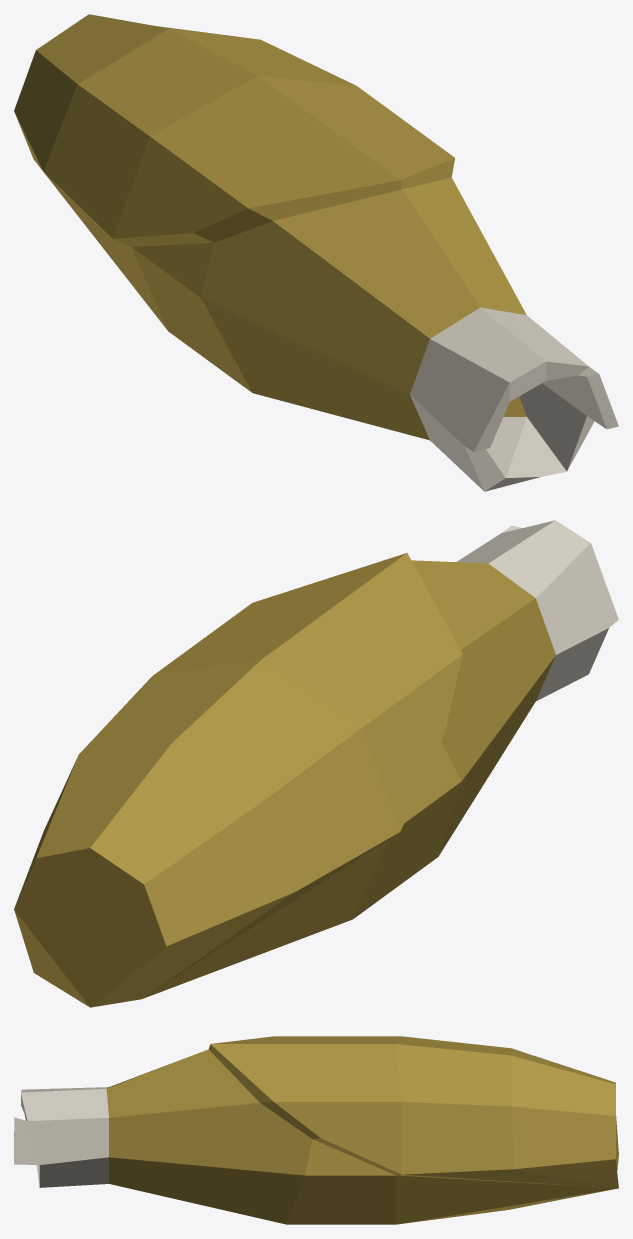
File: EA03_Items_House_Corn_01a.glb
3 renders of one model, top to bottom at view 1: azimuth 30°, elevation 25°; view 2: azimuth 150°, elevation 25°; view 3: azimuth 270°, elevation 25°, orthographic. The views are drawn at different scales.
Parts seen in each view (by area): view 1: EA03_Items_House_Corn_01a; view 2: EA03_Items_House_Corn_01a; view 3: EA03_Items_House_Corn_01a.
Part boxes in pixels (x1=…): EA03_Items_House_Corn_01a: x1=14, y1=14, x2=618, y2=491; EA03_Items_House_Corn_01a: x1=14, y1=520, x2=618, y2=1007; EA03_Items_House_Corn_01a: x1=14, y1=1036, x2=618, y2=1224.
Size of the model in its own units: 0.1104 by 0.1025 by 0.3166.
1 material, 1 textured.
